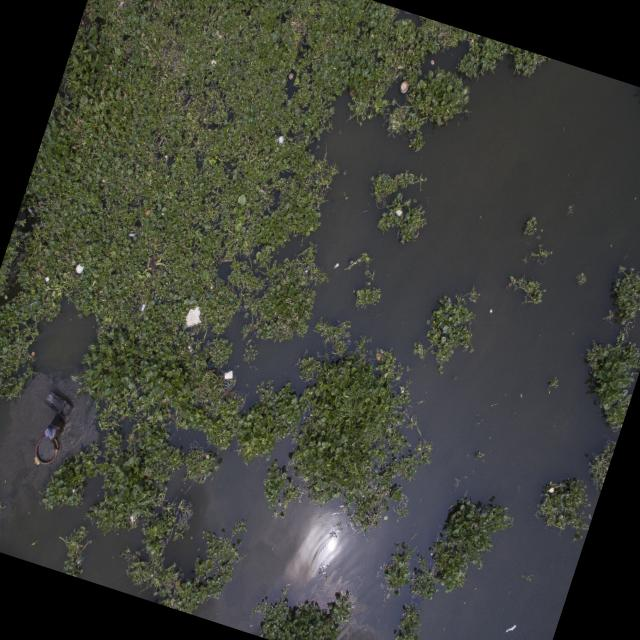Plastic: (74, 262, 84, 275), (276, 135, 286, 145), (140, 302, 146, 314), (128, 231, 136, 239)
